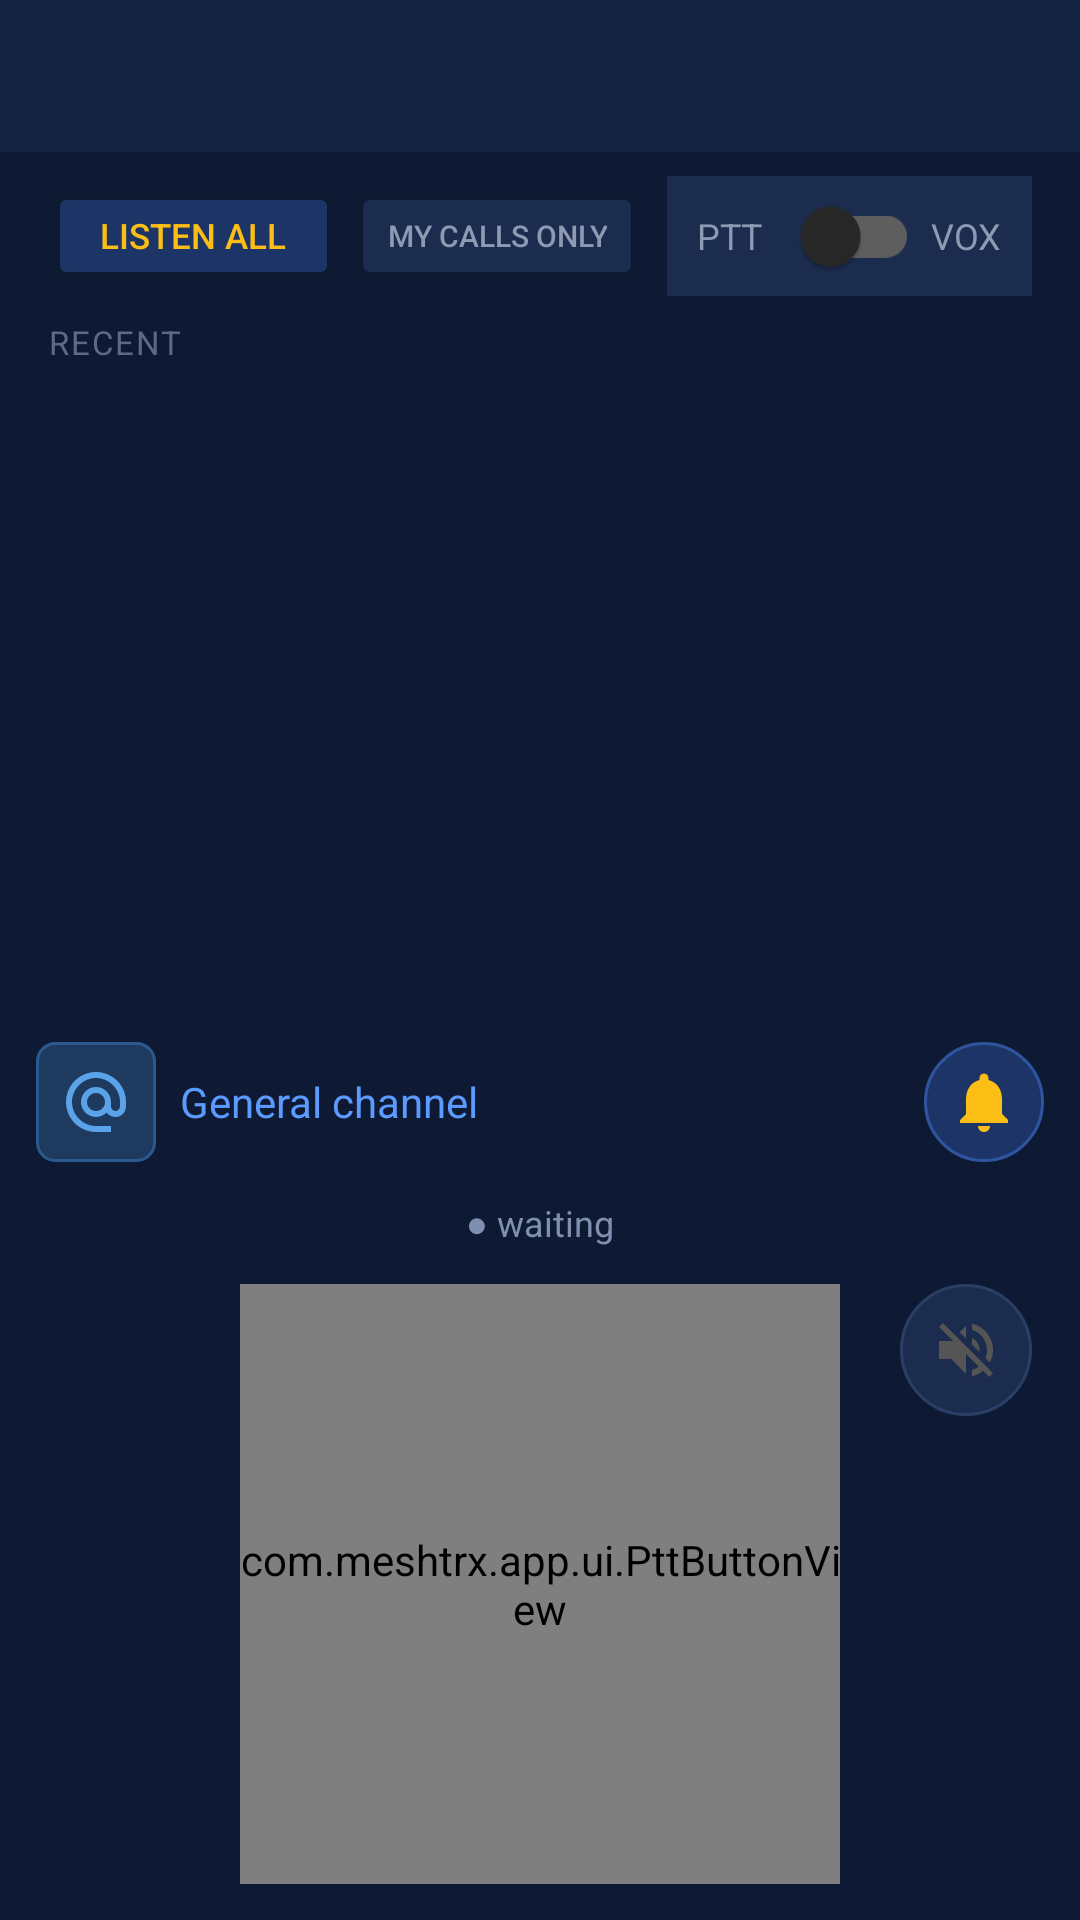

Where to tap for icons on this 1080*1920 app screen, as point (x, y):
Callsign: point (96, 1102)
Speaker: point (966, 1350)
